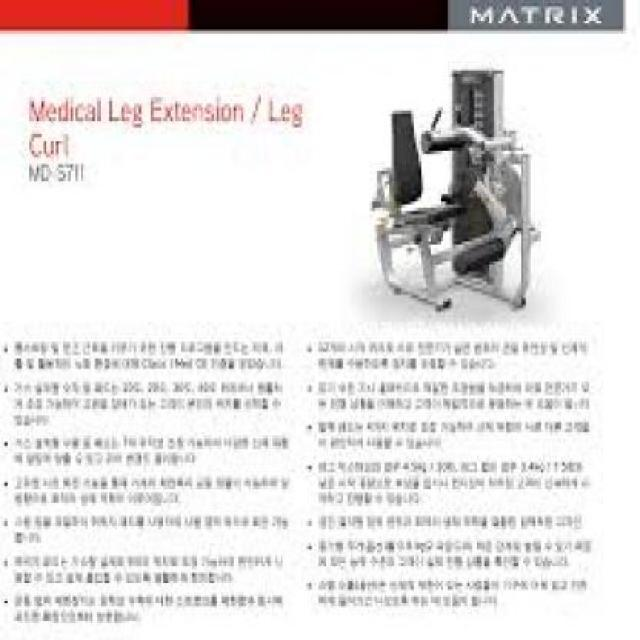leg extension: (352, 61, 557, 322)
